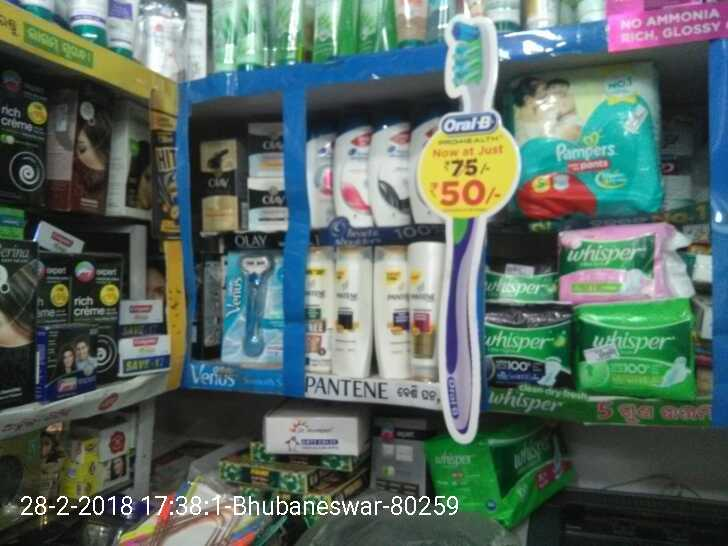venus: (222, 248, 284, 362)
